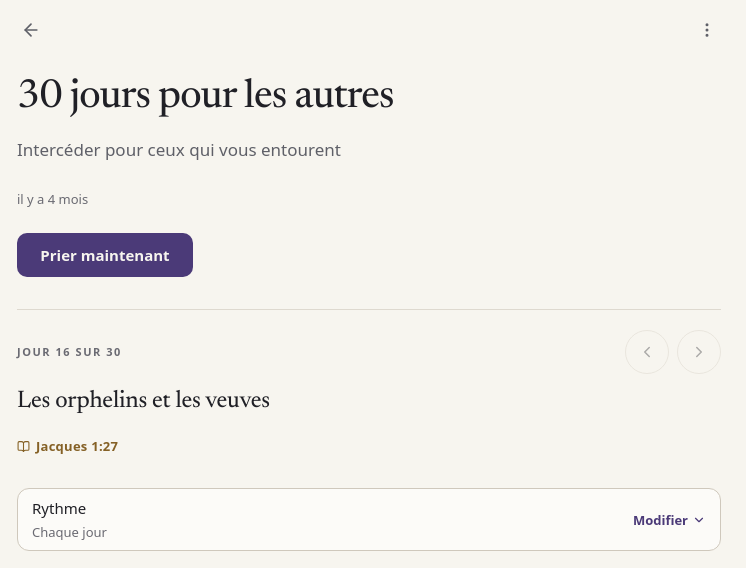
Test: the overflow menu on a plan run › drops the scripture hunt, the follow-up, the editor and the second scheduler
The width and height of the screenshot is (746, 568).
Click the button named "Options" at (707, 30), box [685,8,729,52]
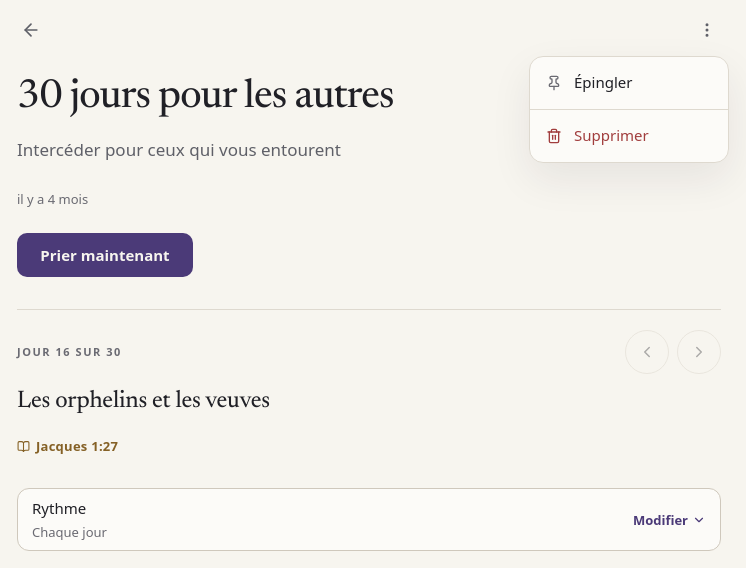
Now the menu item "Épingler" is shown, box [530,61,728,105]
Now the menu item "Supprimer" is shown, box [530,114,728,158]
